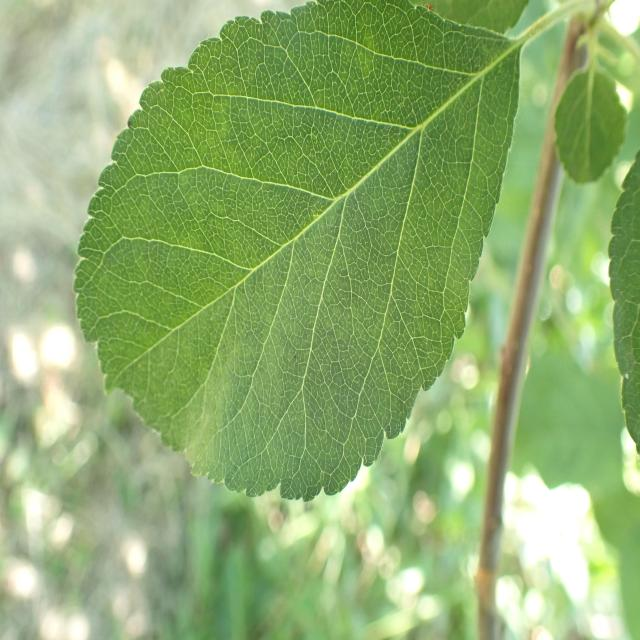healthy: (74, 0, 526, 502), (607, 150, 640, 459)
